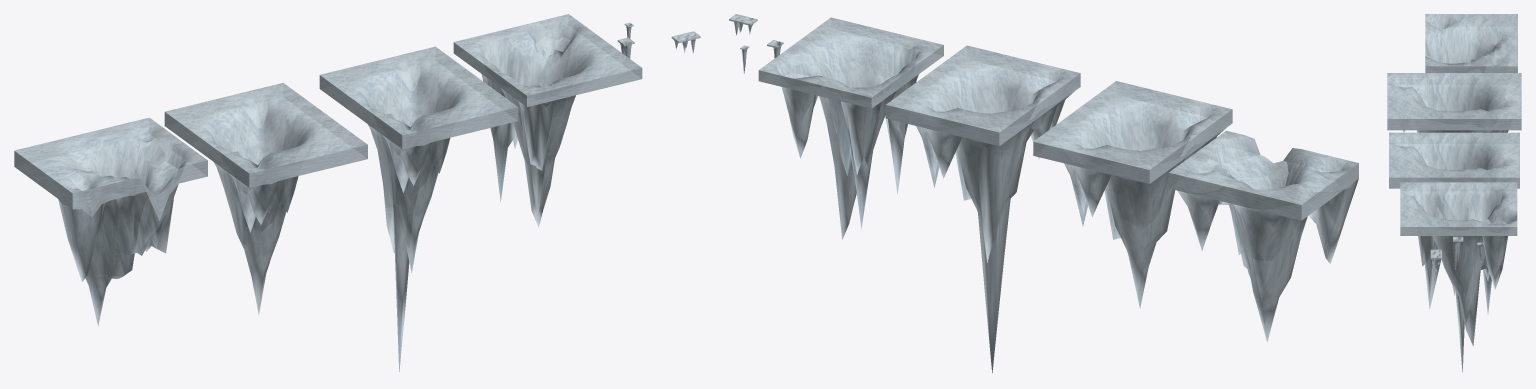
Rendered from istapper_icicles.FBX.
3 views of the same model, side by side, from view 1: azimuth 30°, elevation 25°; view 2: azimuth 150°, elevation 25°; view 3: azimuth 270°, elevation 25° (orthographic). The views are drawn at different scales.
Visible parts, largest first — view 1: istapp3, istapp1, istapp2, istapp4; view 2: istapp1, istapp2, istapp3, istapp4; view 3: istapp4, istapp2, istapp1, istapp3, Box002, details_pynt.
Boxes of the visible parts, box(x1,y1,x2,y2) form: istapp3: box(14, 117, 207, 326); istapp1: box(319, 46, 518, 371); istapp2: box(164, 83, 367, 314); istapp4: box(453, 14, 642, 227); istapp1: box(885, 45, 1080, 372); istapp2: box(1033, 81, 1232, 308); istapp3: box(1168, 130, 1358, 341); istapp4: box(758, 17, 943, 239); istapp4: box(1400, 182, 1517, 346); istapp2: box(1387, 73, 1521, 132); istapp1: box(1389, 132, 1519, 372); istapp3: box(1425, 14, 1517, 72); Box002: box(1453, 236, 1463, 269); details_pynt: box(1430, 249, 1441, 271).
Bounding box in the file's own units: 952 × 412 × 221.
1 material, 1 textured.
